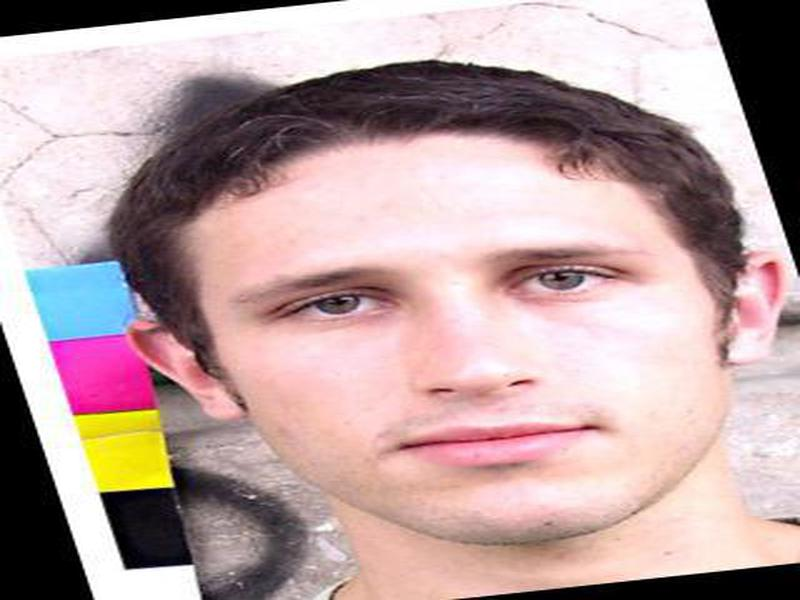without_mask: (187, 150, 725, 542)
